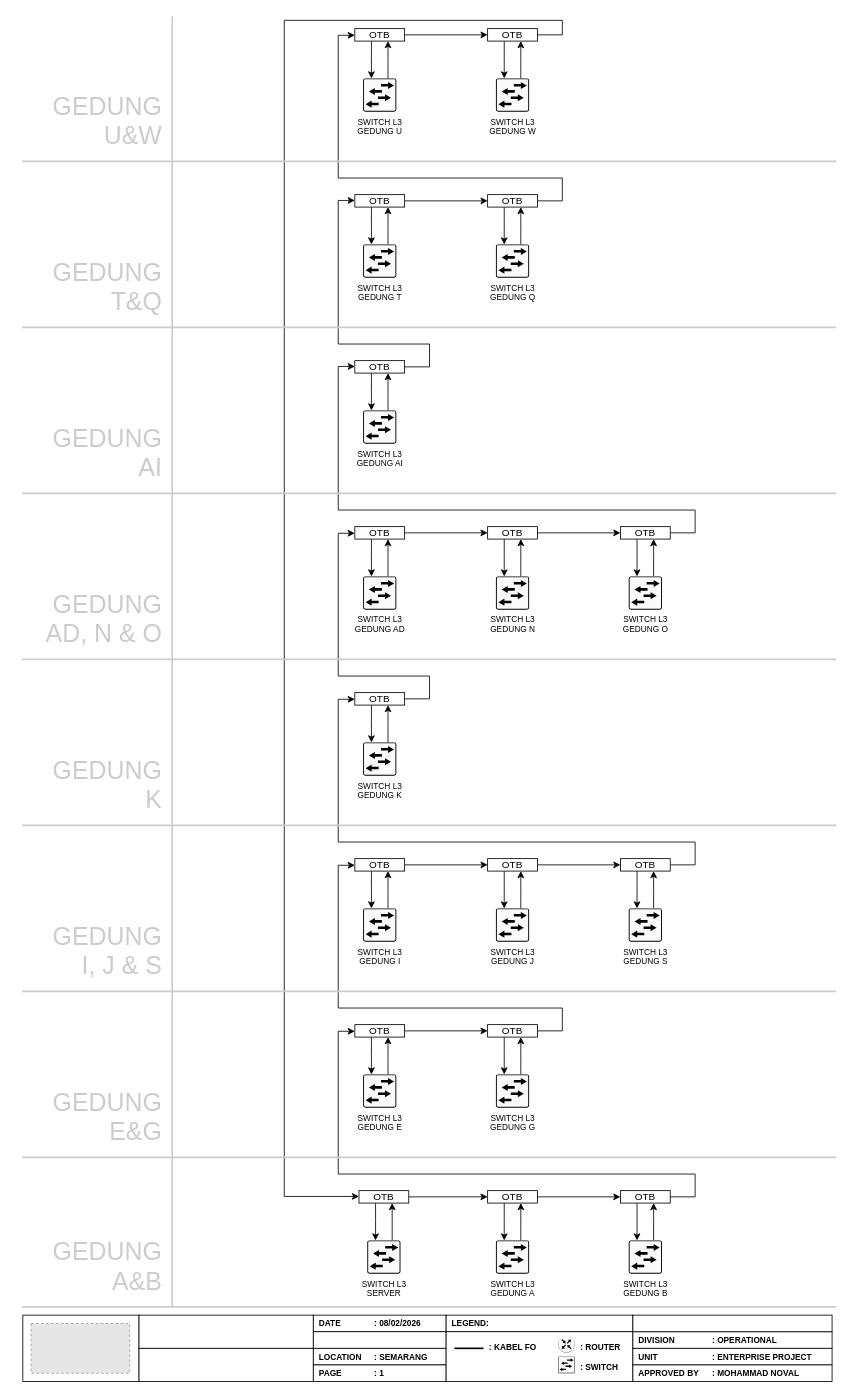
The diagram is 852 pixels wide and 1396 high, and some of its shapes have lost their labels. Grey dashed boxes stand in for pictures. Here are the shapes that lost their labels. From the top down, the centre of each, then its label:
point 225,1331: PROJECT: UNIVERISITAS MURIA KUDUS
point 379,1339: FILE : TOPOLOGY
point 732,1323: CREATED BY : HENOKH ZOE FAITH
point 225,1365: SUBJECT: LAN & WIFI
